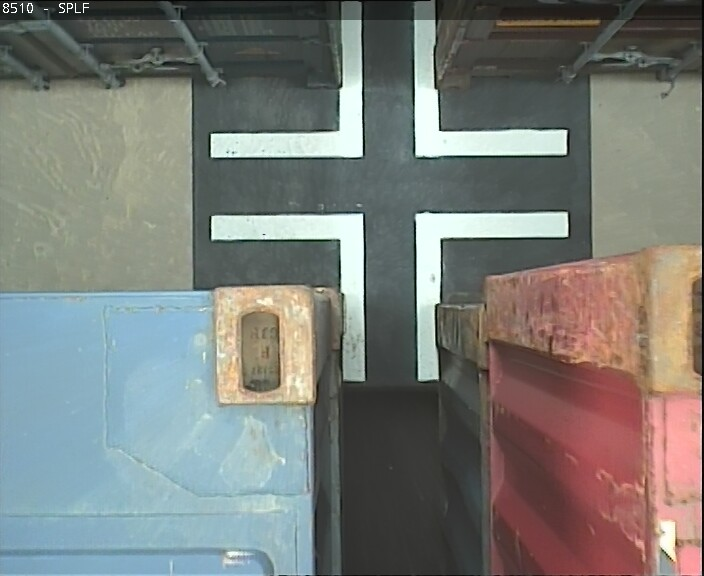groundmarker_1: (213, 211, 571, 379), (209, 1, 569, 155)
